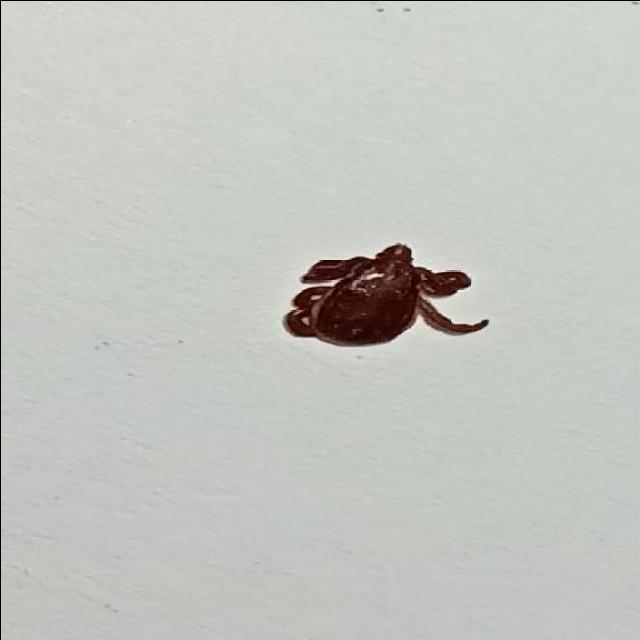Rhipicephalus Sanguineus-M: (284, 242, 492, 349)
